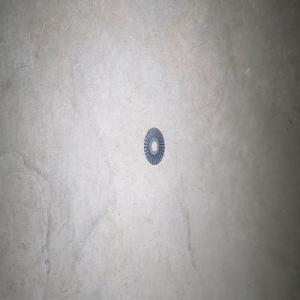Washer: (143, 127, 164, 164)
